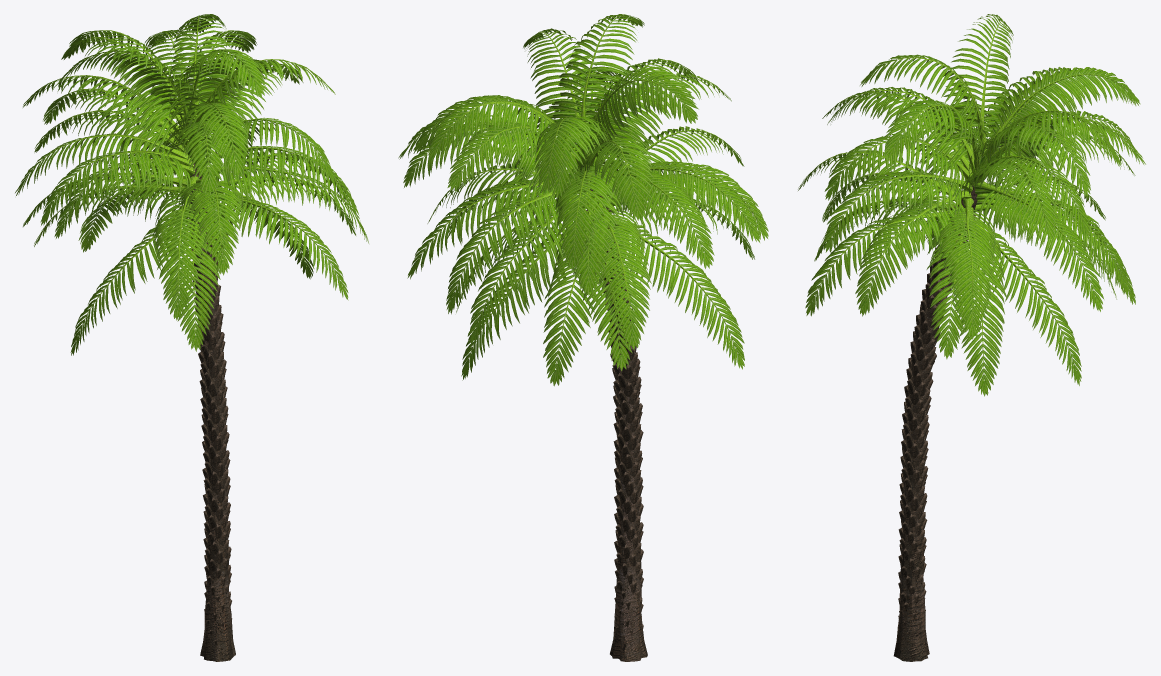
Rendered from Palm.FBX.
3 renders of one model, left to right at view 1: azimuth 30°, elevation 25°; view 2: azimuth 150°, elevation 25°; view 3: azimuth 270°, elevation 25°, orthographic. The views are drawn at different scales.
Visible parts, largest first — view 1: GrowFX01; view 2: GrowFX01; view 3: GrowFX01.
Boxes of the visible parts, box(x1,y1,x2,y2) form: GrowFX01: box(15, 14, 368, 661); GrowFX01: box(398, 14, 768, 661); GrowFX01: box(798, 14, 1145, 661).
Size of the model in its own units: 74.68 by 137 by 71.85.
2 materials, 2 textured.
